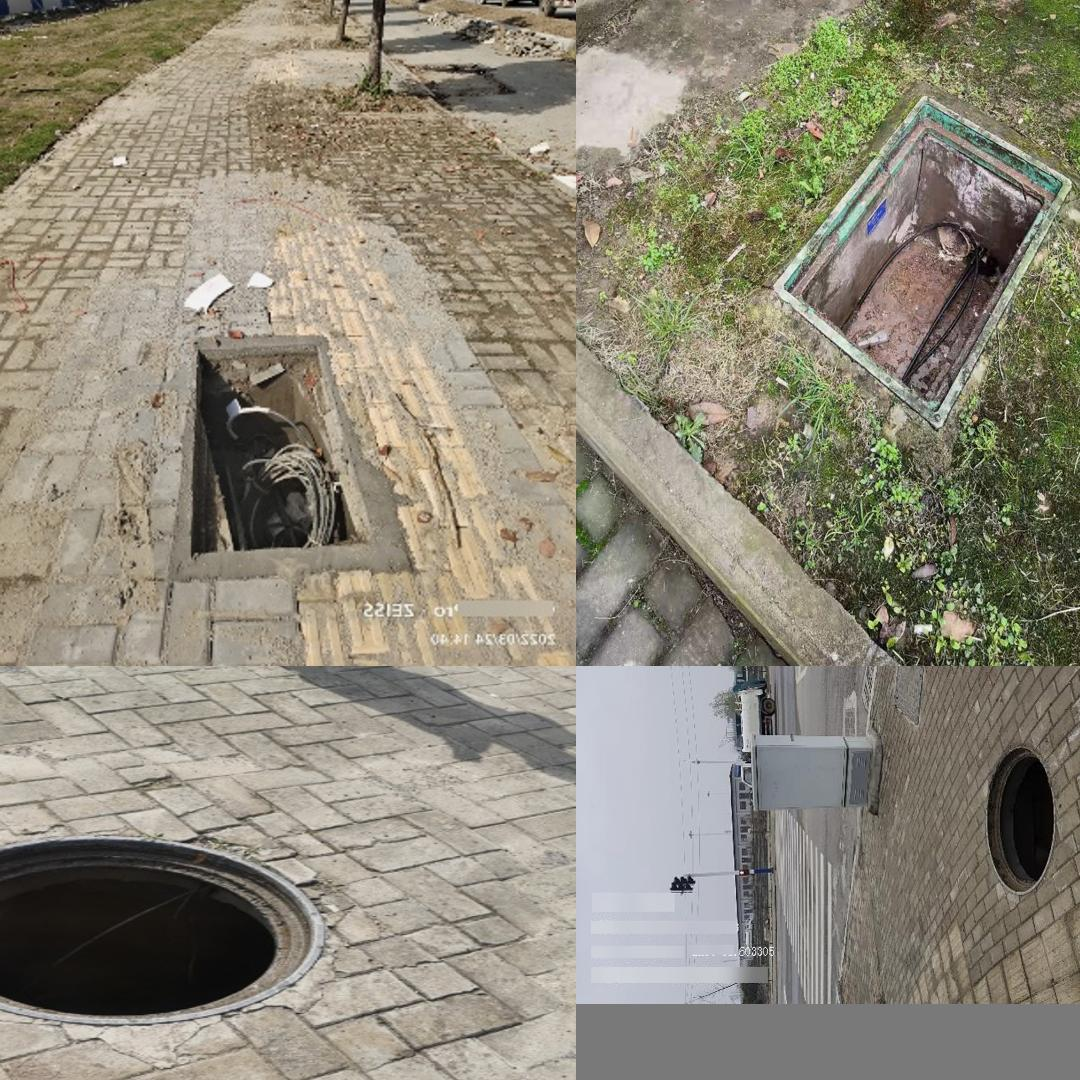lose: (775, 96, 1070, 428), (0, 820, 359, 1034), (159, 301, 411, 602), (985, 747, 1056, 895)
